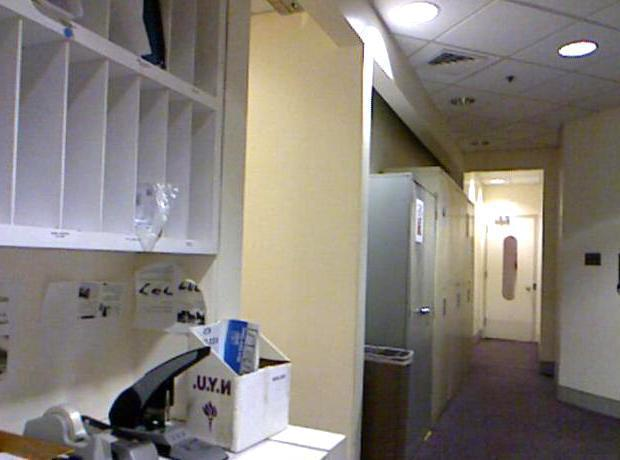Bote de Basura: (347, 344, 417, 457)
